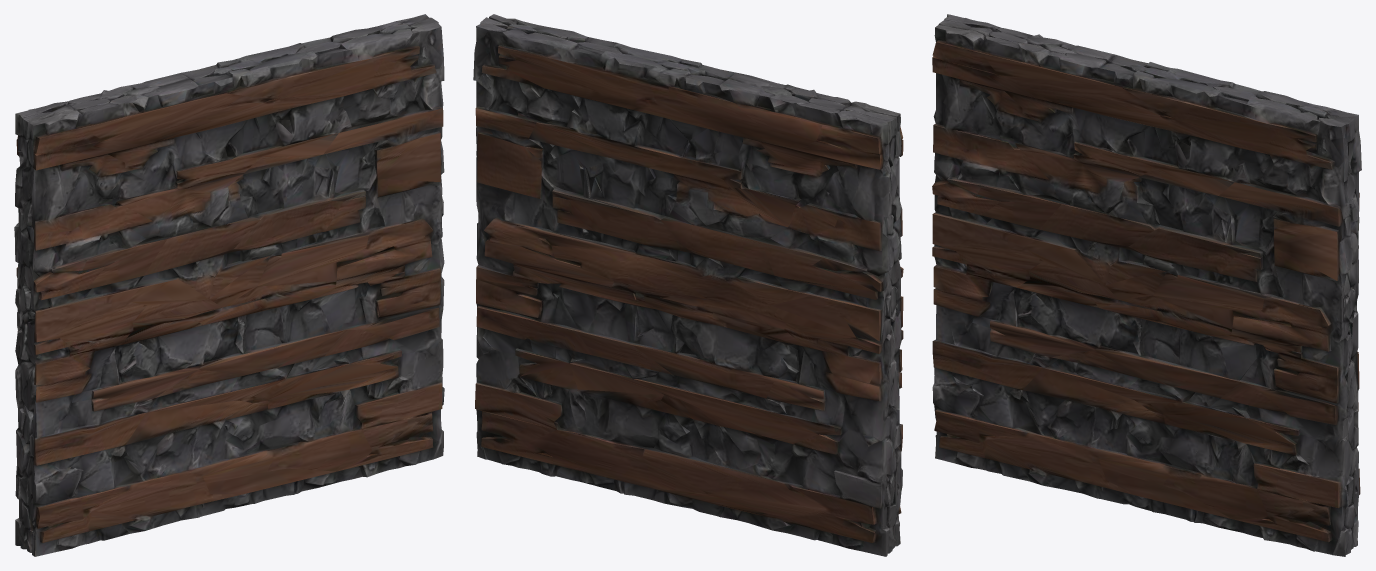
The model's file is mine_wall_planks_stone_idle.glb.
3 views of the same model, side by side, from view 1: azimuth 30°, elevation 25°; view 2: azimuth 150°, elevation 25°; view 3: azimuth 330°, elevation 25° (orthographic).
Parts seen in each view (by area): view 1: tripo_node_161db526-c418-4cea-920b-ef098bb80888; view 2: tripo_node_161db526-c418-4cea-920b-ef098bb80888; view 3: tripo_node_161db526-c418-4cea-920b-ef098bb80888.
Boxes of the visible parts, x1=… form: tripo_node_161db526-c418-4cea-920b-ef098bb80888: x1=14, y1=14, x2=444, y2=556; tripo_node_161db526-c418-4cea-920b-ef098bb80888: x1=473, y1=14, x2=903, y2=556; tripo_node_161db526-c418-4cea-920b-ef098bb80888: x1=932, y1=14, x2=1361, y2=556.
Bounding box in the file's own units: 1 × 0.9987 × 0.0997.
Materials: 1 (1 with a texture image).
